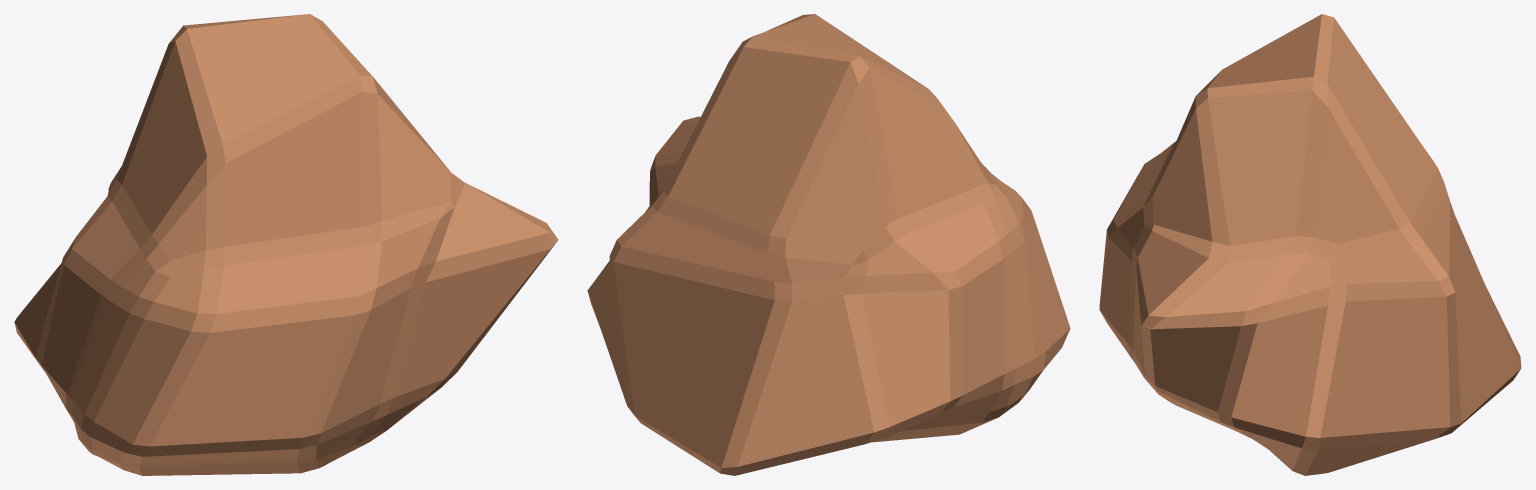
The model's file is rockD.fbx.
3 views of the same model, side by side, from view 1: azimuth 30°, elevation 25°; view 2: azimuth 150°, elevation 25°; view 3: azimuth 270°, elevation 25° (orthographic). The views are drawn at different scales.
Parts seen in each view (by area): view 1: rockD; view 2: rockD; view 3: rockD.
Boxes of the visible parts, bbox=[...] form: rockD: bbox=[14, 14, 558, 475]; rockD: bbox=[587, 14, 1070, 475]; rockD: bbox=[1099, 14, 1521, 475].
Bounding box in the file's own units: 18667 × 16552 × 16980.
